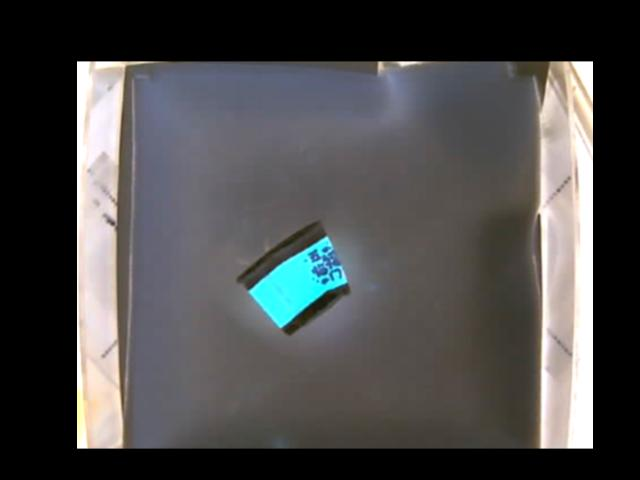Cup: (236, 217, 352, 335)
